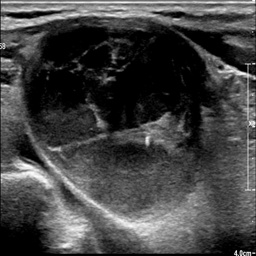mass: (26, 23, 205, 222)
